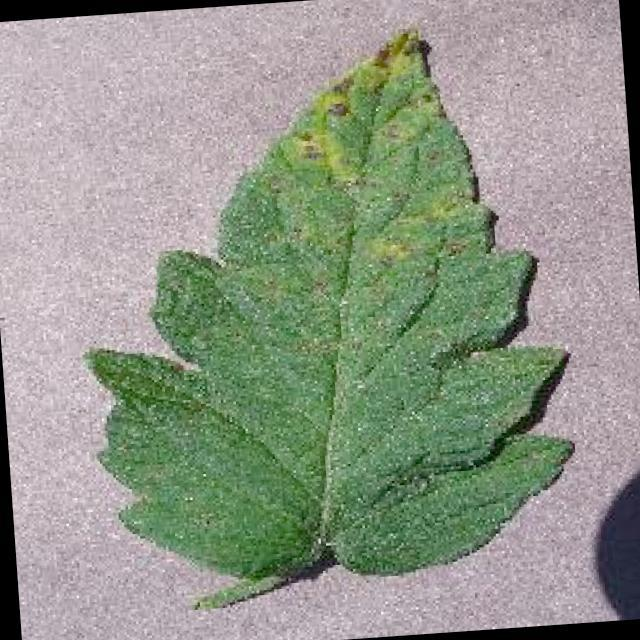Tomato Septoria spot leaf: (60, 12, 584, 596)
